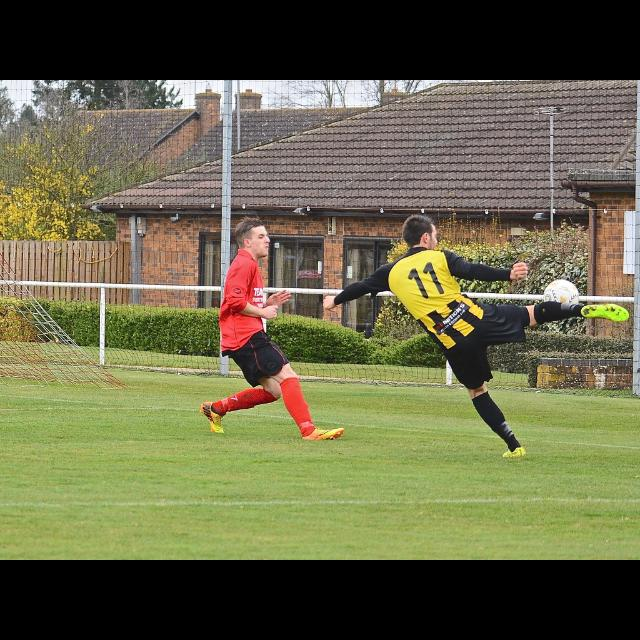Football: (542, 278, 578, 302)
